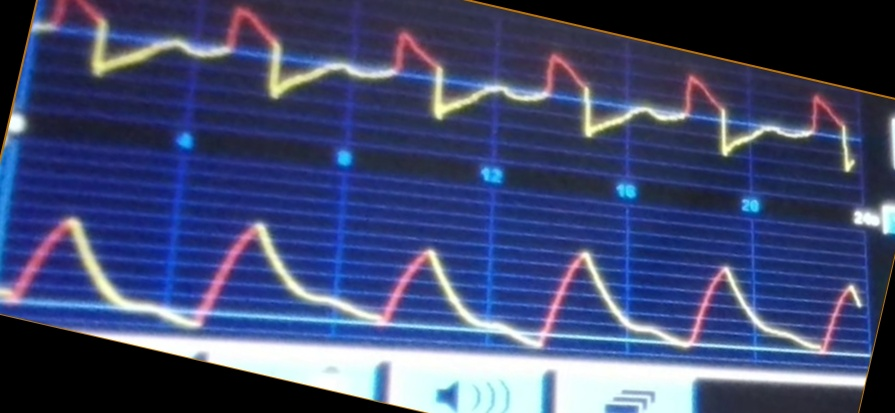Ineffective_effort Flow: (38, 1, 854, 169)
Ineffective_effort Volume: (2, 211, 860, 356)
